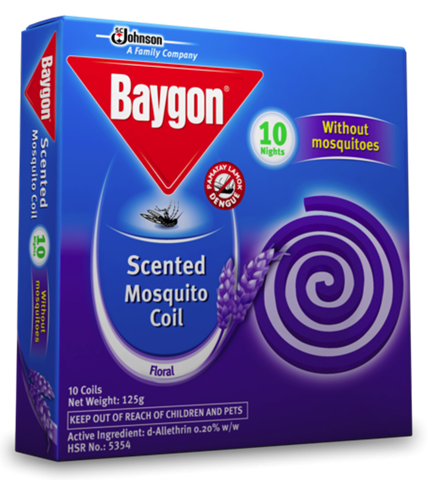Open-Flame-Hazard: (240, 186, 407, 396)
